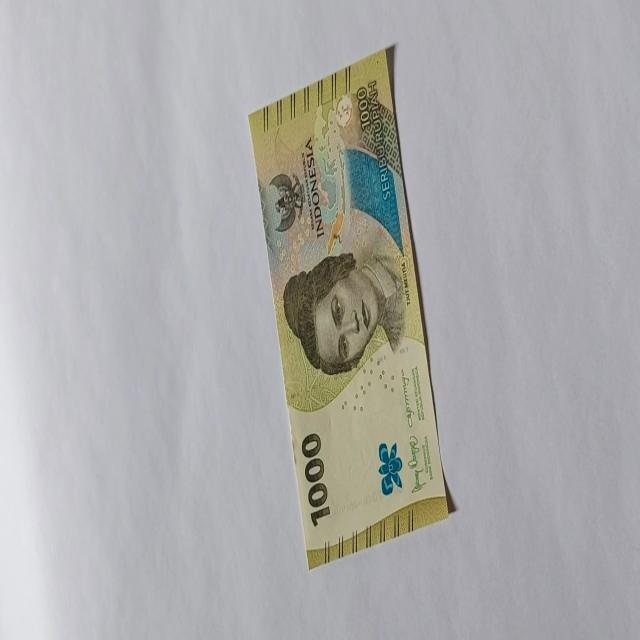seribu rupiah kertas: (247, 47, 451, 570)
